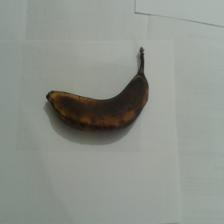Banana Rotten: (38, 62, 162, 161)
